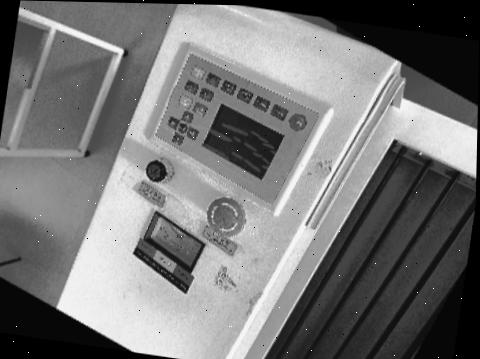Amp_Meter: (144, 212, 205, 272)
Display: (203, 100, 284, 178)
Down_button: (182, 109, 194, 122)
Emergency_Stop: (207, 195, 246, 236)
Enter_button: (178, 93, 193, 107)
Esc_button: (193, 100, 208, 115)
File_button: (206, 71, 221, 85)
Frame_button: (185, 78, 199, 92)
Left_button: (186, 125, 199, 138)
Max-Power_button: (221, 78, 237, 93)
Min-Power_button: (237, 86, 253, 101)
Origin_button: (199, 86, 214, 100)
Power_switch: (146, 157, 174, 182)
Pulse_button: (271, 103, 288, 119)
Reset_button: (290, 111, 307, 128)
Right_button: (168, 114, 179, 128)
Speed_button: (254, 94, 270, 110)
Start-Pause_button: (191, 64, 206, 78)
Up_button: (172, 131, 185, 144)
Z_U_button: (178, 121, 188, 131)
